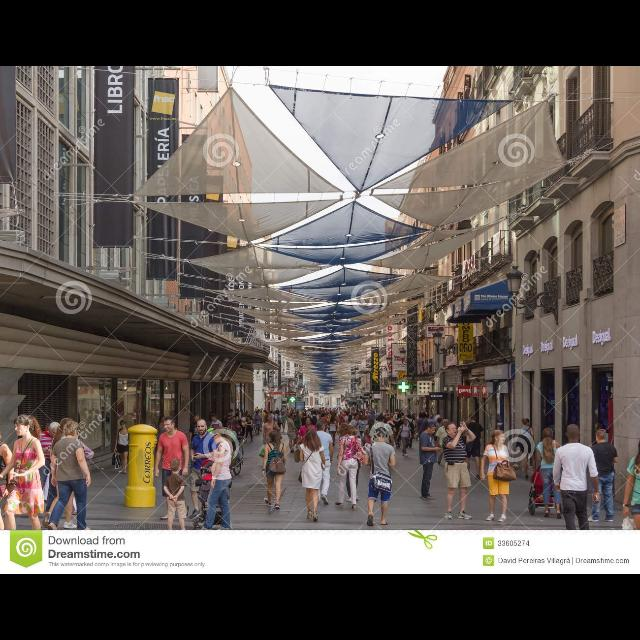head: (14, 415, 32, 437), (64, 422, 82, 438), (212, 426, 228, 444), (566, 424, 582, 442), (164, 416, 176, 434), (61, 418, 74, 434), (48, 422, 62, 436), (492, 431, 506, 445), (170, 460, 182, 474), (340, 424, 354, 436), (376, 427, 388, 441), (444, 424, 458, 436), (198, 420, 208, 436), (427, 422, 438, 436), (307, 429, 317, 443), (340, 423, 350, 435), (542, 428, 554, 438), (596, 430, 606, 442), (316, 421, 326, 431), (0, 428, 6, 443), (270, 431, 278, 442), (194, 414, 202, 424), (377, 414, 385, 424), (120, 419, 128, 428), (368, 419, 376, 427), (469, 414, 477, 422), (524, 418, 530, 427), (212, 414, 218, 422), (267, 414, 273, 422), (306, 417, 312, 425), (290, 414, 296, 421), (354, 414, 360, 421), (443, 419, 449, 426), (160, 416, 166, 422), (437, 417, 443, 423), (404, 419, 408, 425), (422, 413, 426, 419), (331, 416, 335, 422), (247, 416, 251, 420), (256, 411, 260, 415), (408, 415, 412, 419)
person: (0, 412, 48, 562), (550, 422, 602, 550), (41, 416, 97, 532), (44, 419, 94, 539), (193, 426, 234, 538), (152, 414, 192, 522), (33, 419, 76, 519), (183, 418, 224, 522), (478, 428, 518, 524), (362, 426, 398, 528), (441, 420, 477, 520), (292, 427, 328, 523), (585, 428, 621, 524), (333, 422, 367, 512), (534, 426, 566, 520), (0, 428, 22, 554), (306, 418, 334, 506), (260, 428, 288, 510), (161, 458, 189, 538), (338, 423, 364, 503), (418, 422, 444, 501), (368, 414, 396, 486), (460, 412, 486, 481), (258, 414, 284, 478), (110, 418, 136, 478), (514, 418, 538, 482), (188, 412, 208, 470), (298, 416, 318, 470), (152, 416, 172, 464), (435, 419, 455, 467), (362, 418, 381, 468), (208, 412, 225, 466), (346, 413, 364, 457), (395, 418, 413, 458), (416, 412, 432, 454), (432, 417, 446, 461), (286, 412, 300, 454), (405, 414, 417, 450), (242, 413, 254, 445), (328, 415, 339, 447), (255, 410, 261, 436)
